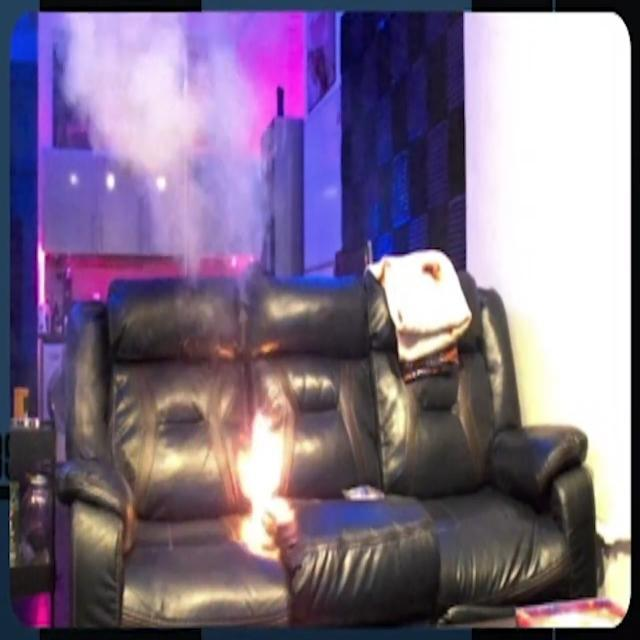Fire: (232, 407, 294, 557)
Smoke: (76, 16, 270, 270)
